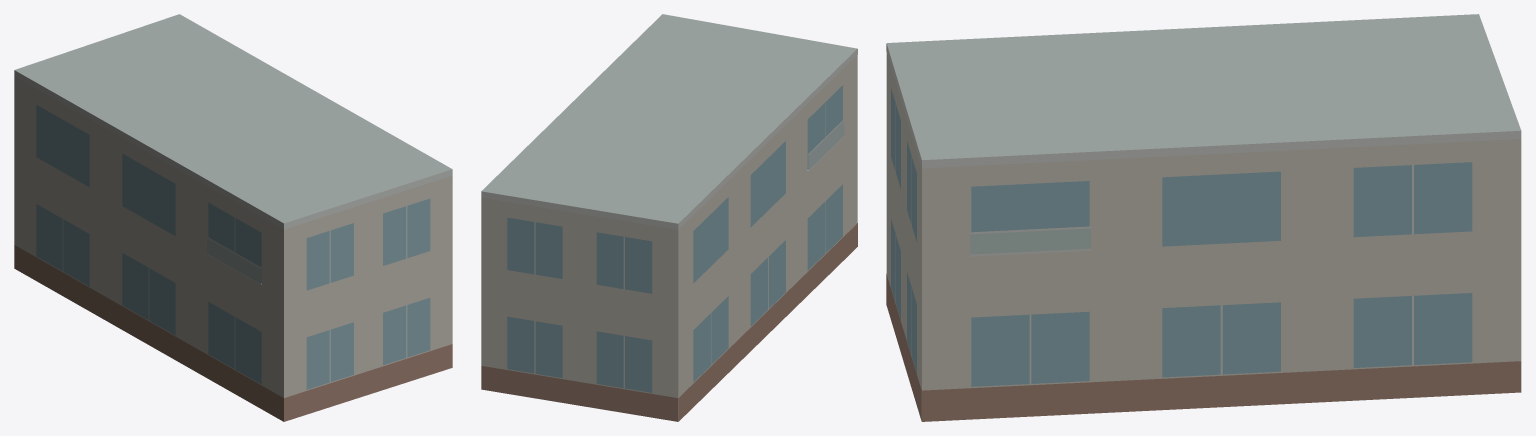
File: survey-upis-32733660.glb
The picture shows the model from 3 angles, left to right: view 1: azimuth 30°, elevation 25°; view 2: azimuth 150°, elevation 25°; view 3: azimuth 270°, elevation 25°; orthographic projection. The views are drawn at different scales.
Parts seen in each view (by area): view 1: survey-upis-32733660.tmp; view 2: survey-upis-32733660.tmp; view 3: survey-upis-32733660.tmp.
Part boxes in pixels (<box>): survey-upis-32733660.tmp: <box>14,14,452,421</box>; survey-upis-32733660.tmp: <box>481,14,857,421</box>; survey-upis-32733660.tmp: <box>886,14,1521,421</box>.
Bounding box in the file's own units: 9.35 × 7.8 × 17.16.
